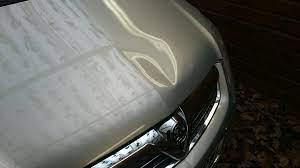bonnet-dent: (0, 0, 201, 128)
